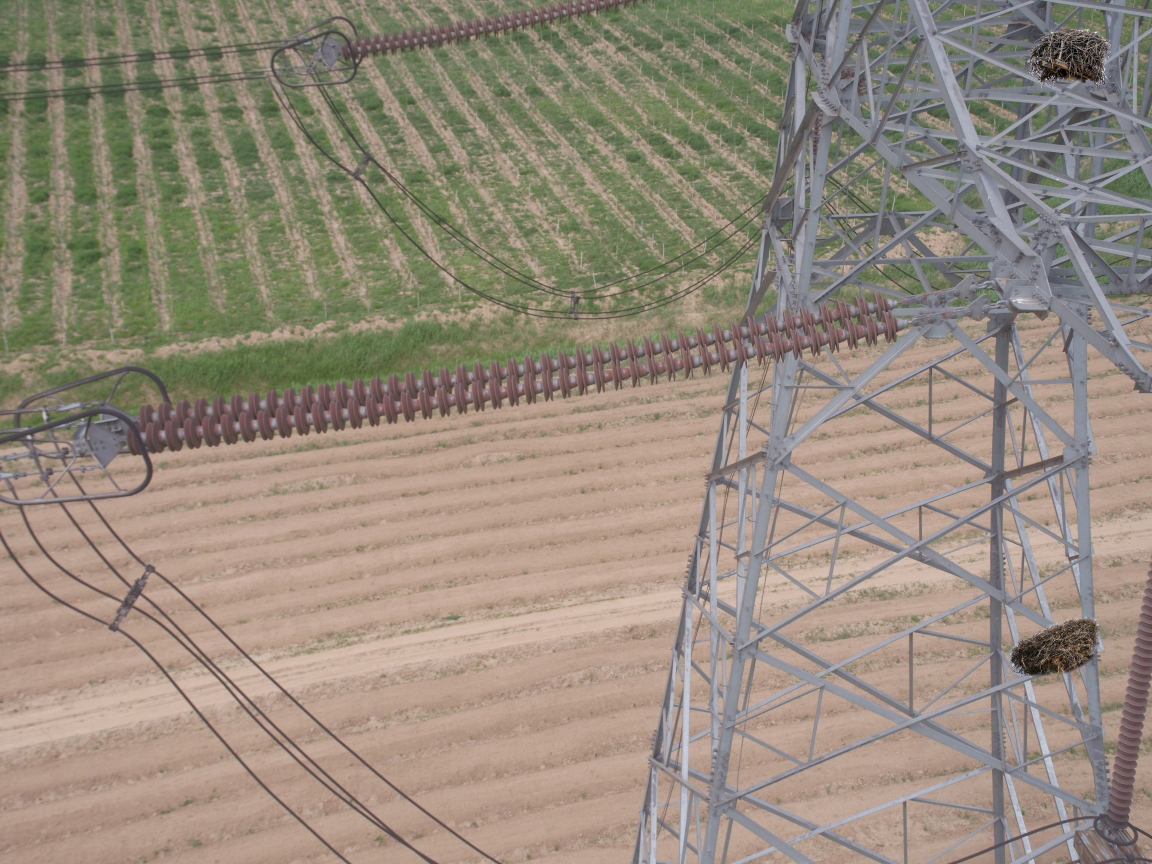nest: (1007, 616, 1100, 686), (1022, 27, 1111, 82)
